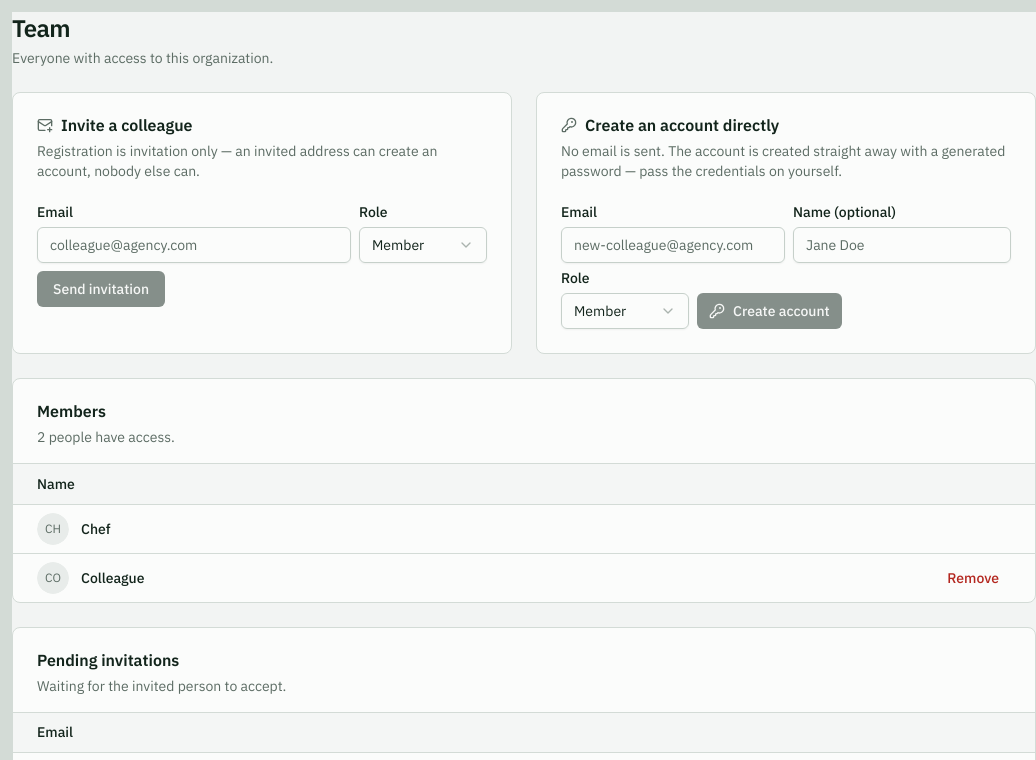
Test case: MembersPage › surfaces an invite error
Type "dupe@agency.com" into the field with placeholder "colleague@agency.com" below "Invite a colleague".
click(194, 245); type("dupe@agency.com")  # box x1=37 y1=227 x2=351 y2=263
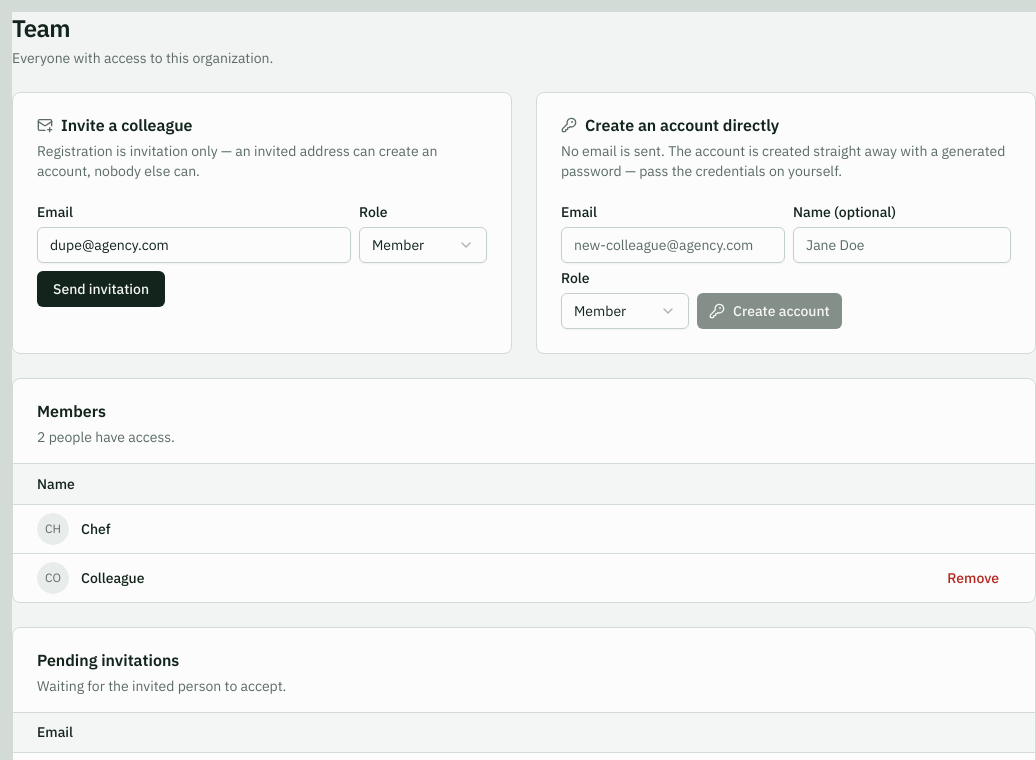
Click the button "Send invitation".
click(101, 289)  # box x1=37 y1=271 x2=165 y2=307
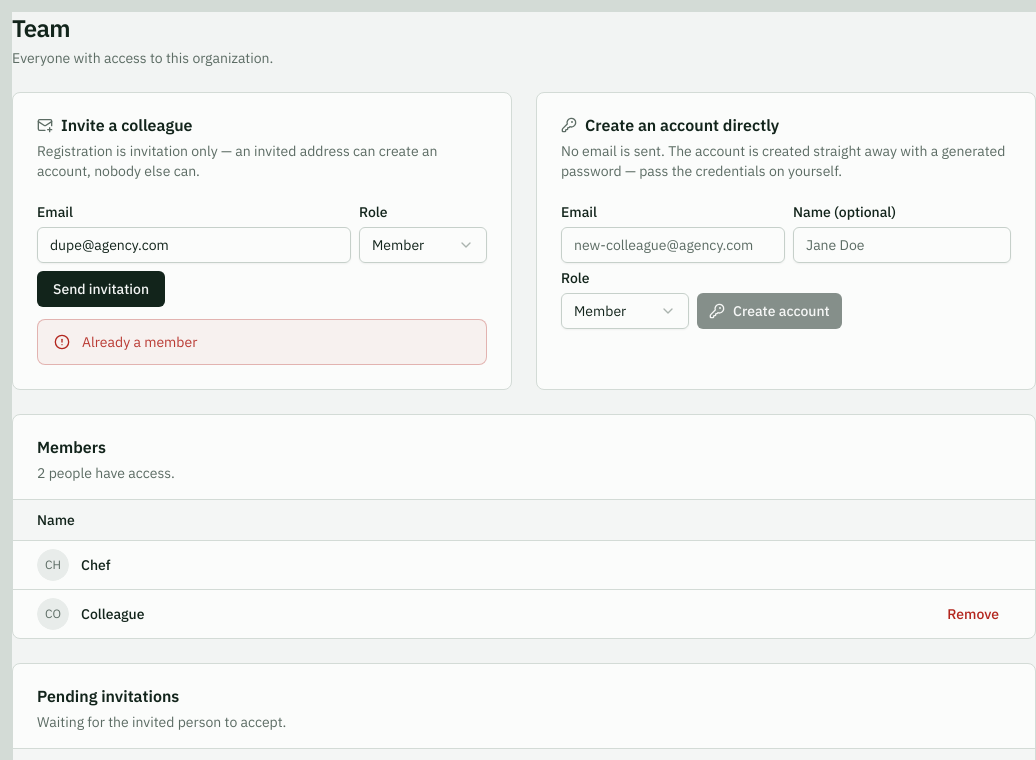
Check: the message reads "Already a member", box x1=82 y1=333 x2=197 y2=351
